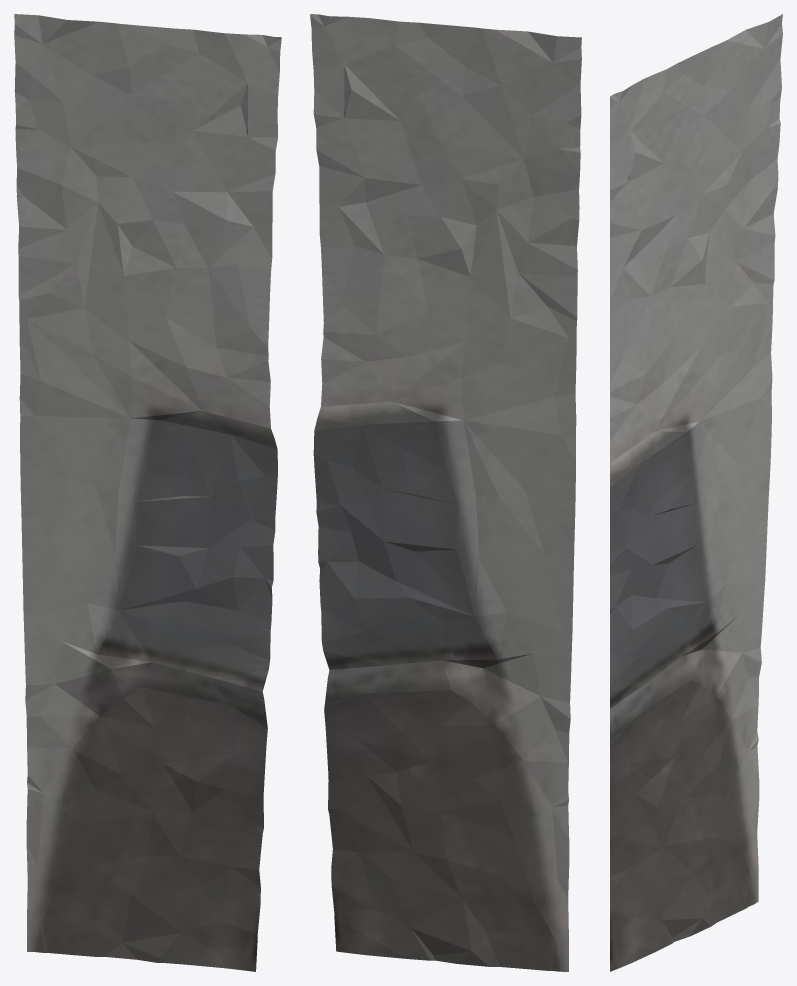
3 renders of one model, left to right at view 1: azimuth 30°, elevation 25°; view 2: azimuth 210°, elevation 25°; view 3: azimuth 270°, elevation 25°, orthographic. The views are drawn at different scales.
Size of the model in its own units: 0.167 by 0.8373 by 0.1479.
Materials: 1 (1 with a texture image).
